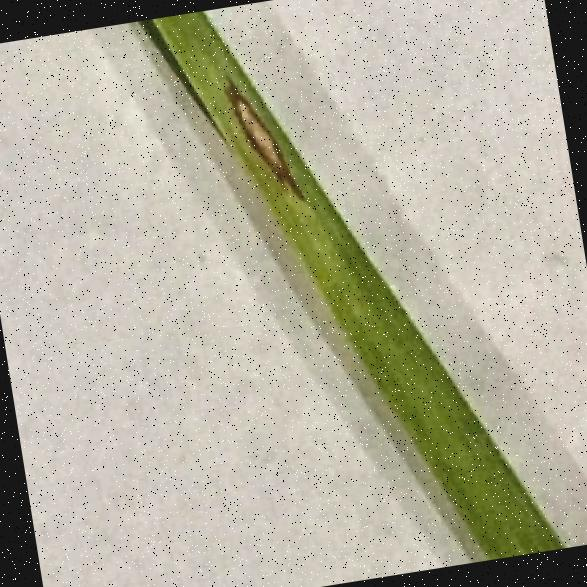Leaf_smut: (207, 59, 312, 212)
